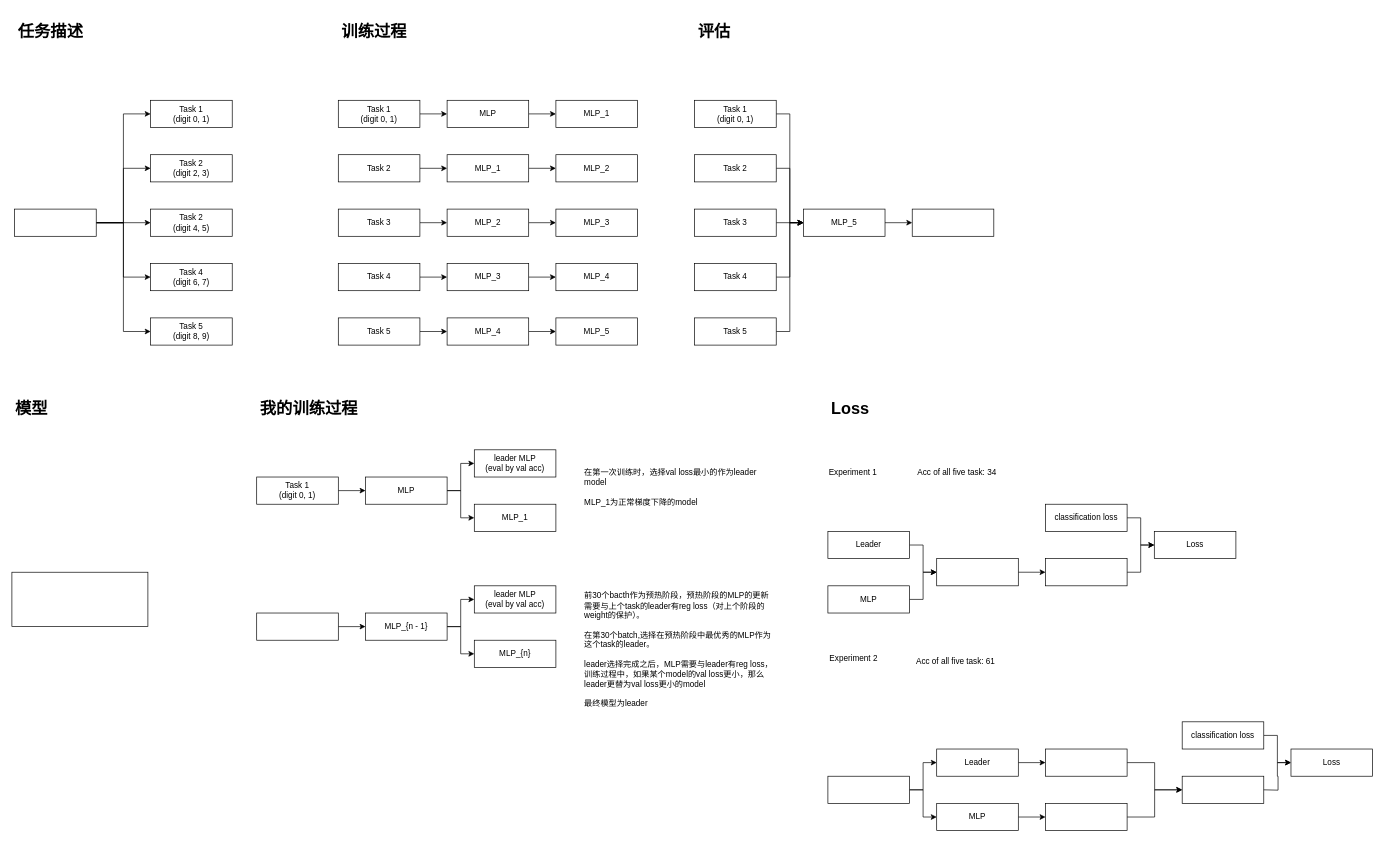
This 1384x843 diagram has some shape labels left out. Here are the shapes that lost their labels. From the top down, the centre of each, then its label:
pixel 55 222: MNIST Split
pixel 953 222: Average Acc on 5 task
pixel 977 572: norm
pixel 1086 572: weight Loss
pixel 79 599: MLP hidden layer 400 3 - layer Adam(0.0005)
pixel 297 626: Task n
pixel 1086 762: Leader Output
pixel 868 789: image
pixel 1223 789: mean abs difference
pixel 1086 817: MLP Output
